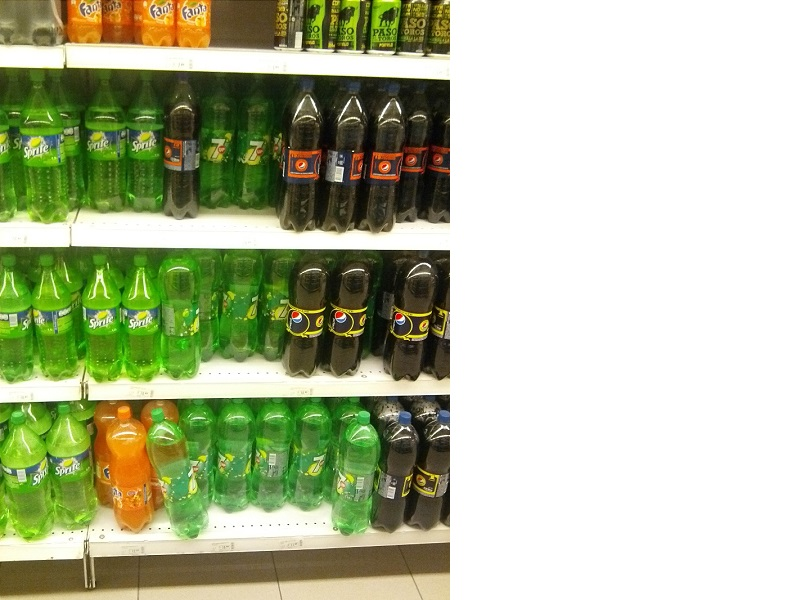lemonade: (19, 69, 82, 229), (378, 249, 445, 391), (77, 61, 136, 222), (116, 69, 175, 222), (1, 409, 65, 546), (157, 71, 211, 227), (28, 251, 86, 390), (43, 401, 103, 535), (75, 248, 130, 389), (278, 77, 326, 237), (277, 248, 331, 387), (326, 79, 370, 239), (359, 82, 404, 237), (117, 252, 170, 383), (157, 247, 206, 387), (333, 408, 383, 542), (199, 69, 241, 214)
